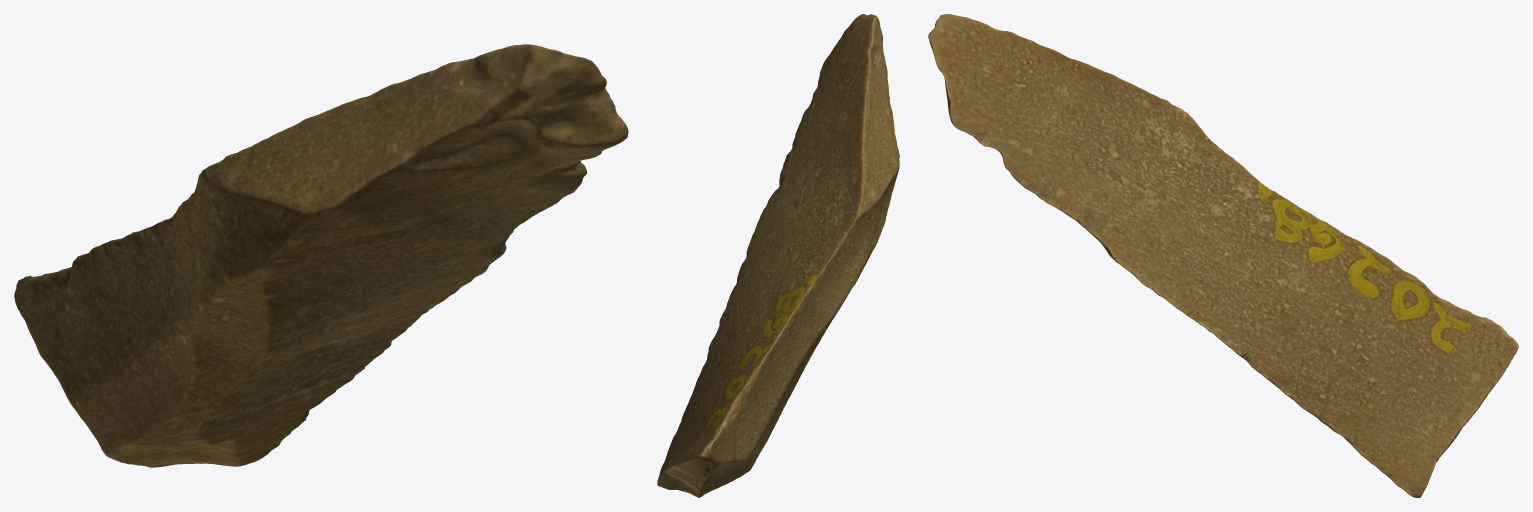
3 renders of one model, left to right at view 1: azimuth 30°, elevation 25°; view 2: azimuth 150°, elevation 25°; view 3: azimuth 270°, elevation 25°, orthographic. The views are drawn at different scales.
Visible parts, largest first — view 1: Node; view 2: Node; view 3: Node.
Part boxes in pixels (left/top/right/bottom): Node: left=14, top=44, right=628, bottom=467; Node: left=657, top=14, right=899, bottom=497; Node: left=928, top=14, right=1518, bottom=497.
Size of the model in its own units: 1.17 by 3.05 by 3.55.
1 material, 1 textured.
